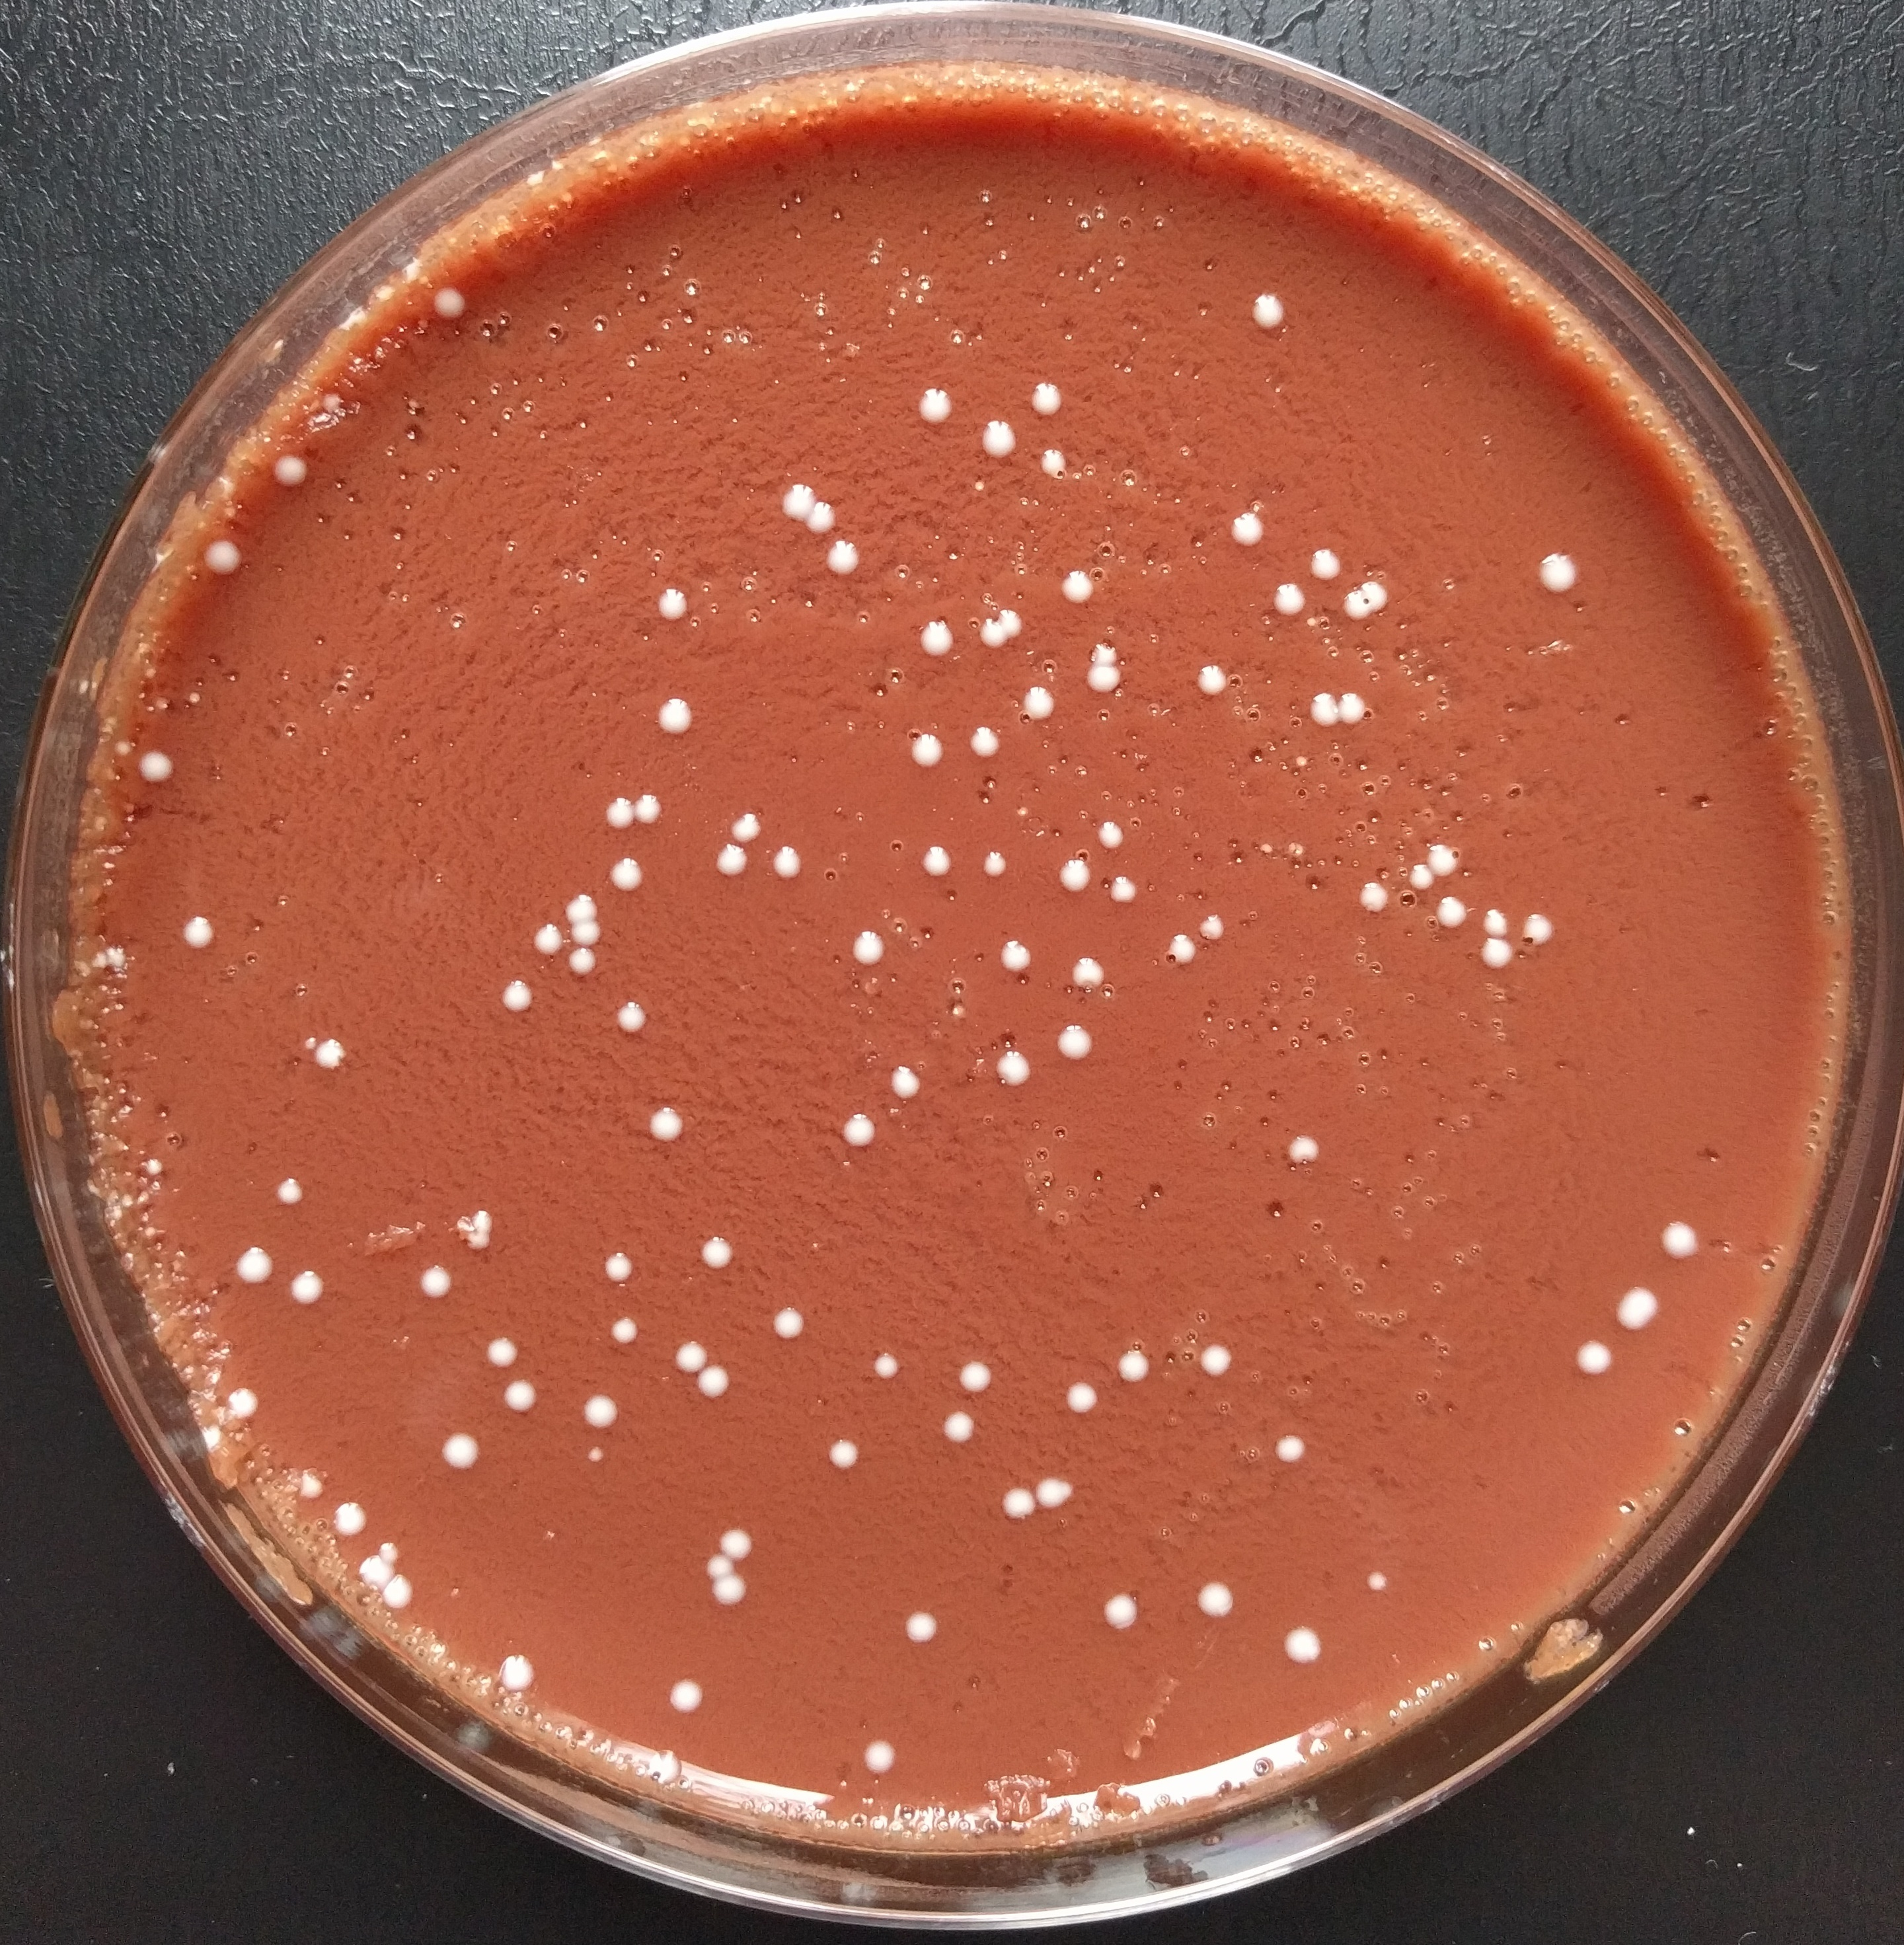sp12: (1608, 1279, 1667, 1340), (844, 925, 905, 981), (1032, 441, 1090, 495), (490, 1652, 549, 1704), (908, 378, 962, 432), (1656, 1213, 1710, 1267), (298, 1023, 352, 1077), (828, 1110, 889, 1157), (896, 1602, 950, 1654), (194, 532, 248, 584), (174, 910, 227, 962), (263, 451, 317, 502), (1533, 542, 1580, 600), (1030, 1467, 1088, 1515), (914, 610, 966, 661), (1276, 1621, 1329, 1671), (987, 1051, 1044, 1096), (418, 281, 476, 326), (1276, 1126, 1327, 1176), (973, 418, 1022, 471), (133, 744, 181, 796), (1564, 1333, 1618, 1380), (1512, 903, 1562, 952), (230, 1239, 279, 1290), (411, 1258, 460, 1307), (284, 1265, 333, 1314), (1221, 502, 1271, 549), (882, 1056, 933, 1103), (661, 1675, 713, 1720), (1472, 932, 1519, 981), (767, 1298, 814, 1347), (645, 1101, 694, 1149), (1193, 1576, 1243, 1621), (438, 1426, 488, 1471), (602, 852, 652, 898), (1109, 1349, 1161, 1393), (1055, 1011, 1095, 1067), (1055, 566, 1102, 613), (1097, 1589, 1146, 1635), (499, 1375, 547, 1420), (697, 1225, 741, 1276), (1247, 286, 1289, 338), (650, 695, 697, 741), (1069, 953, 1116, 999), (1057, 1375, 1107, 1417), (1088, 807, 1133, 852), (650, 582, 697, 626), (992, 1481, 1039, 1525), (577, 1393, 624, 1436), (523, 918, 570, 962), (856, 1736, 905, 1778), (1301, 540, 1346, 584), (1431, 891, 1477, 934), (708, 1569, 753, 1612), (1266, 573, 1313, 615), (1186, 659, 1233, 701), (819, 540, 868, 580), (708, 1527, 764, 1562), (1027, 378, 1071, 422), (1426, 837, 1470, 880), (495, 972, 539, 1016), (905, 732, 950, 774), (954, 1358, 997, 1399), (821, 1431, 863, 1474), (938, 1403, 980, 1447), (609, 995, 652, 1037), (710, 842, 753, 884), (350, 1553, 396, 1593), (220, 1386, 265, 1426), (1302, 687, 1341, 734), (964, 722, 1003, 769), (692, 1361, 734, 1403), (603, 1312, 647, 1352), (481, 1330, 521, 1373), (1015, 681, 1055, 723), (776, 479, 814, 523), (1193, 1338, 1231, 1382), (990, 607, 1037, 641), (764, 845, 811, 880), (1353, 877, 1393, 917), (1161, 929, 1200, 971), (1268, 1426, 1306, 1467), (727, 807, 765, 849), (598, 1246, 642, 1283), (1081, 662, 1128, 695), (1336, 586, 1370, 629), (1055, 856, 1091, 896), (628, 791, 668, 828), (1358, 577, 1393, 619), (666, 1337, 708, 1372), (328, 1499, 370, 1534), (975, 847, 1018, 880), (804, 500, 840, 539), (914, 842, 950, 880), (868, 1347, 908, 1382), (1358, 1560, 1393, 1600), (382, 1576, 417, 1616), (272, 1171, 307, 1211), (994, 941, 1036, 974), (568, 943, 602, 985), (558, 891, 602, 922), (1339, 690, 1367, 739), (598, 795, 635, 831), (1105, 875, 1144, 908), (570, 918, 609, 952), (1404, 859, 1437, 894), (1200, 910, 1233, 945), (973, 617, 1008, 648), (293, 1469, 328, 1501), (701, 1555, 738, 1582), (462, 1227, 499, 1255), (467, 1206, 500, 1236), (1088, 643, 1121, 669), (136, 1154, 169, 1180), (1477, 906, 1505, 936), (582, 1436, 607, 1469), (378, 1537, 405, 1565), (110, 735, 136, 760), (295, 1028, 323, 1051)
